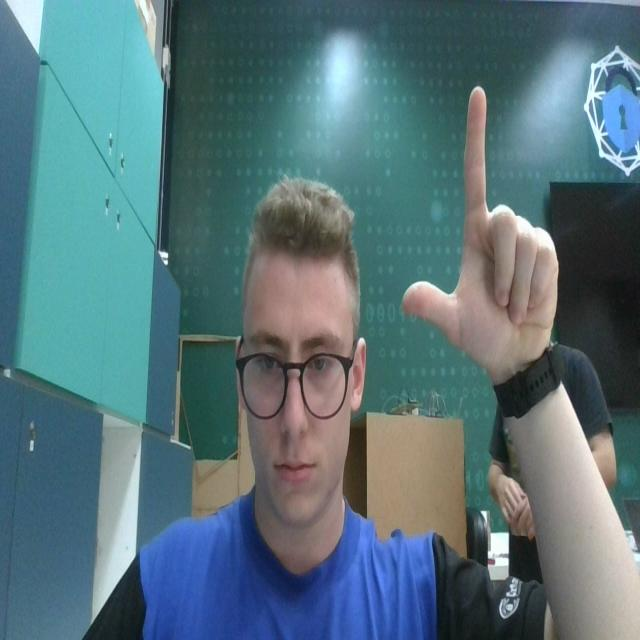L: (398, 75, 562, 362)
